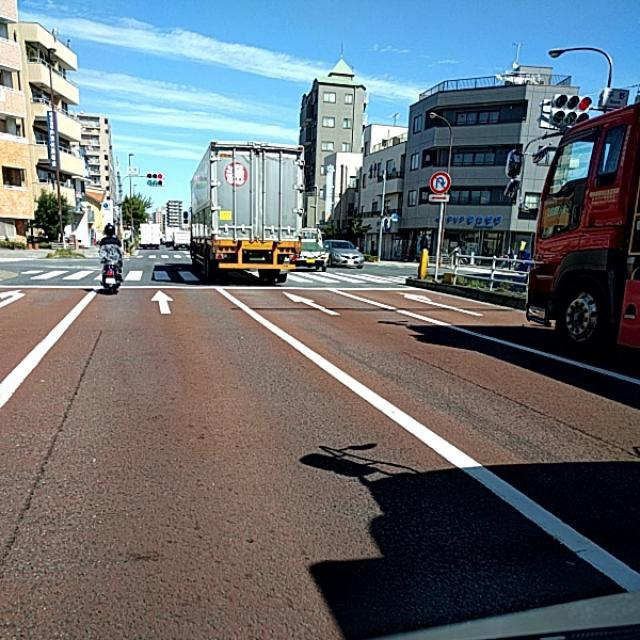pothole: (5, 430, 64, 505)
